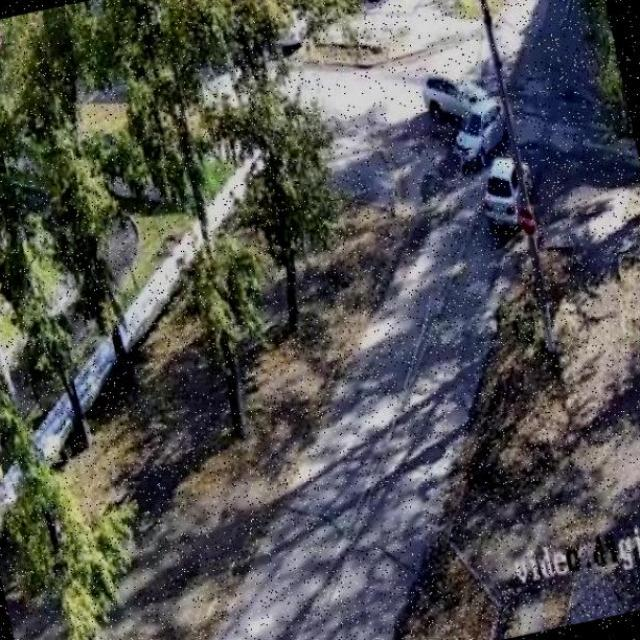accident: (416, 55, 518, 175)
